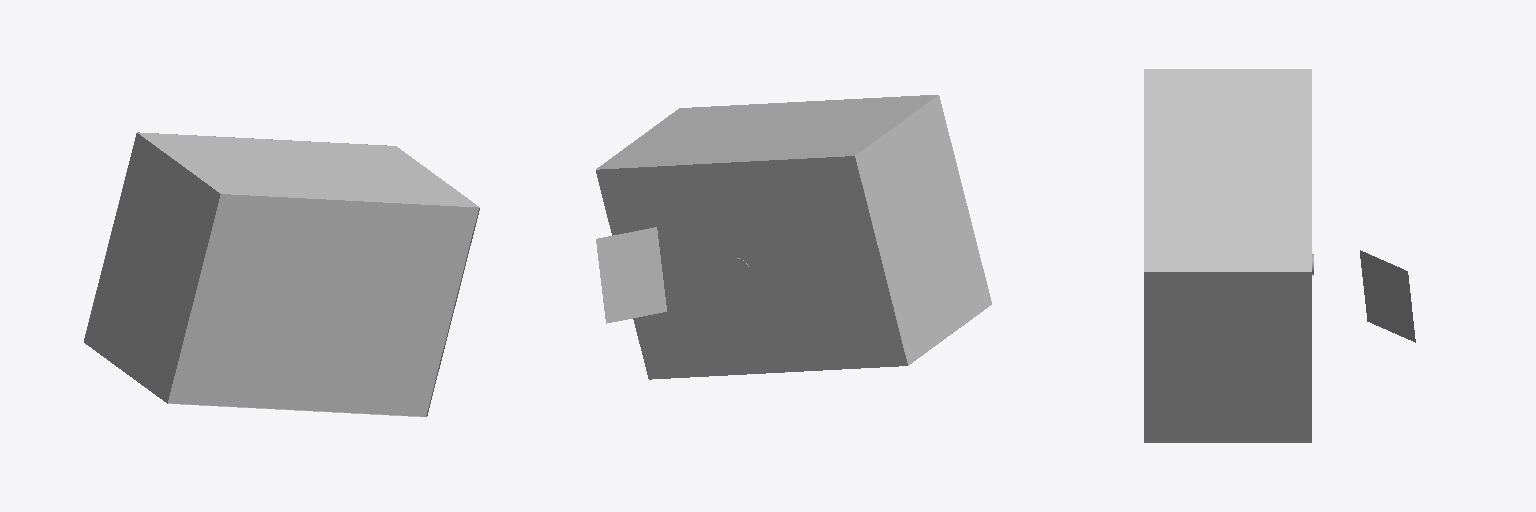
Rendered from lens.obj.
3 views of the same model, side by side, from view 1: azimuth 30°, elevation 25°; view 2: azimuth 150°, elevation 25°; view 3: azimuth 270°, elevation 25° (orthographic).
Visible parts, largest first — view 1: ceil, walls; view 2: floor, walls, screen.002; view 3: walls, screen.002.
Part boxes in pixels (x1,y1,x2,y2): ceil: (168,194,478,416); walls: (84,132,479,416); floor: (596,156,907,379); walls: (596,95,991,365); screen.002: (596,227,666,323); walls: (1144,69,1311,442); screen.002: (1360,250,1415,342).
Size of the model in its own units: 327 by 273 by 246.